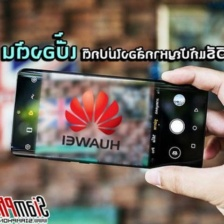phone: (6, 64, 211, 177)
